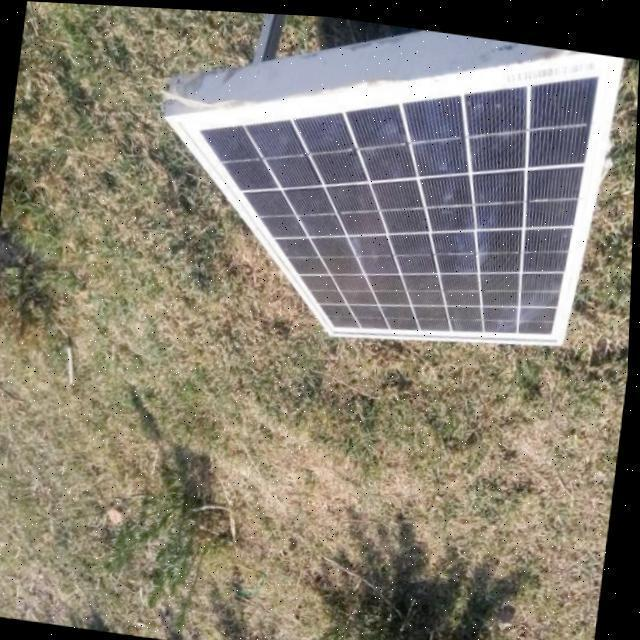Normal Solar Panel: (144, 7, 624, 366)
